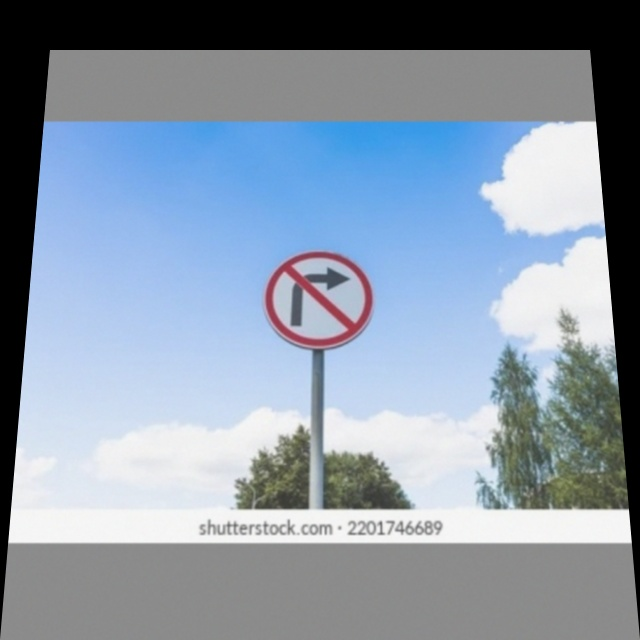Right_Turn_Prohibited: (263, 249, 374, 352)
